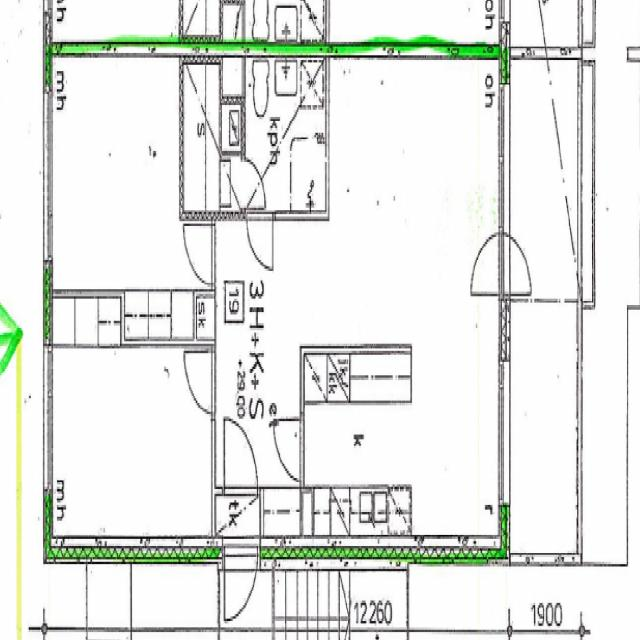door: (224, 537, 258, 634), (224, 418, 257, 496), (471, 234, 509, 295), (499, 234, 537, 295), (183, 351, 215, 414), (272, 420, 304, 480), (184, 224, 215, 284), (247, 211, 273, 276), (242, 160, 266, 208)
